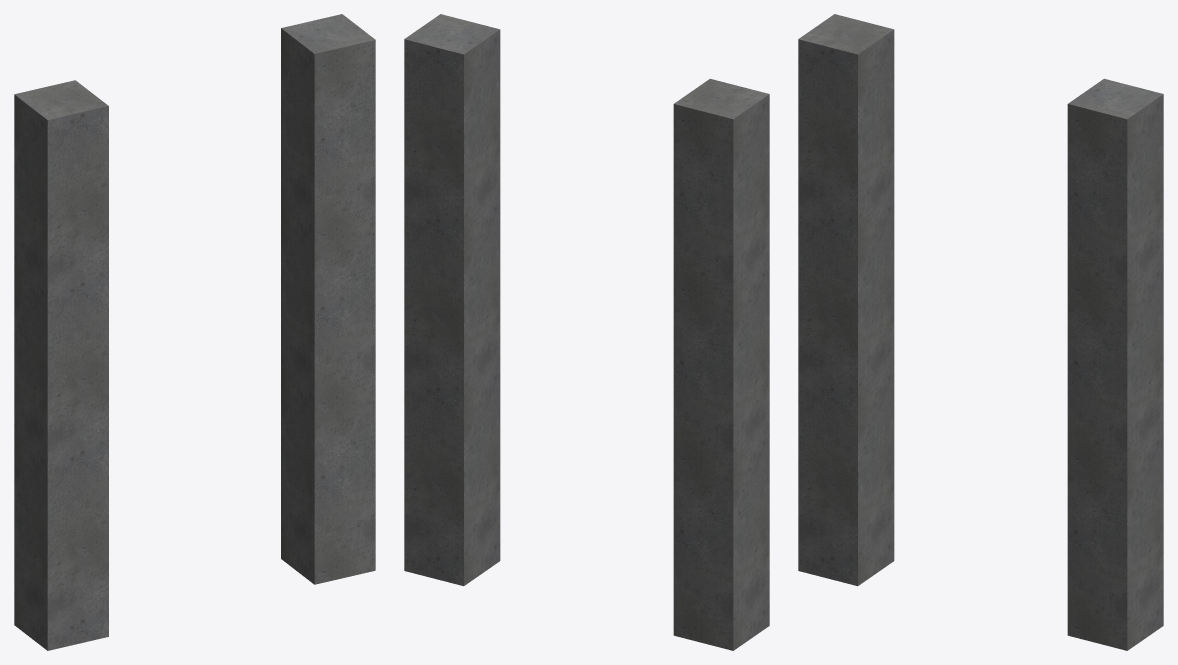
File: columns_034.fbx
3 views of the same model, side by side, from view 1: azimuth 30°, elevation 25°; view 2: azimuth 150°, elevation 25°; view 3: azimuth 330°, elevation 25° (orthographic).
Visible parts, largest first — view 1: Cube__1_; view 2: Cube__1_; view 3: Cube__1_.
Boxes of the visible parts, left/top/right/bottom form: Cube__1_: left=14, top=14, right=375, bottom=650; Cube__1_: left=404, top=14, right=769, bottom=650; Cube__1_: left=798, top=14, right=1163, bottom=650.
Bounding box in the file's own units: 4.09 × 6.3 × 0.7908.
1 material, 1 textured.
